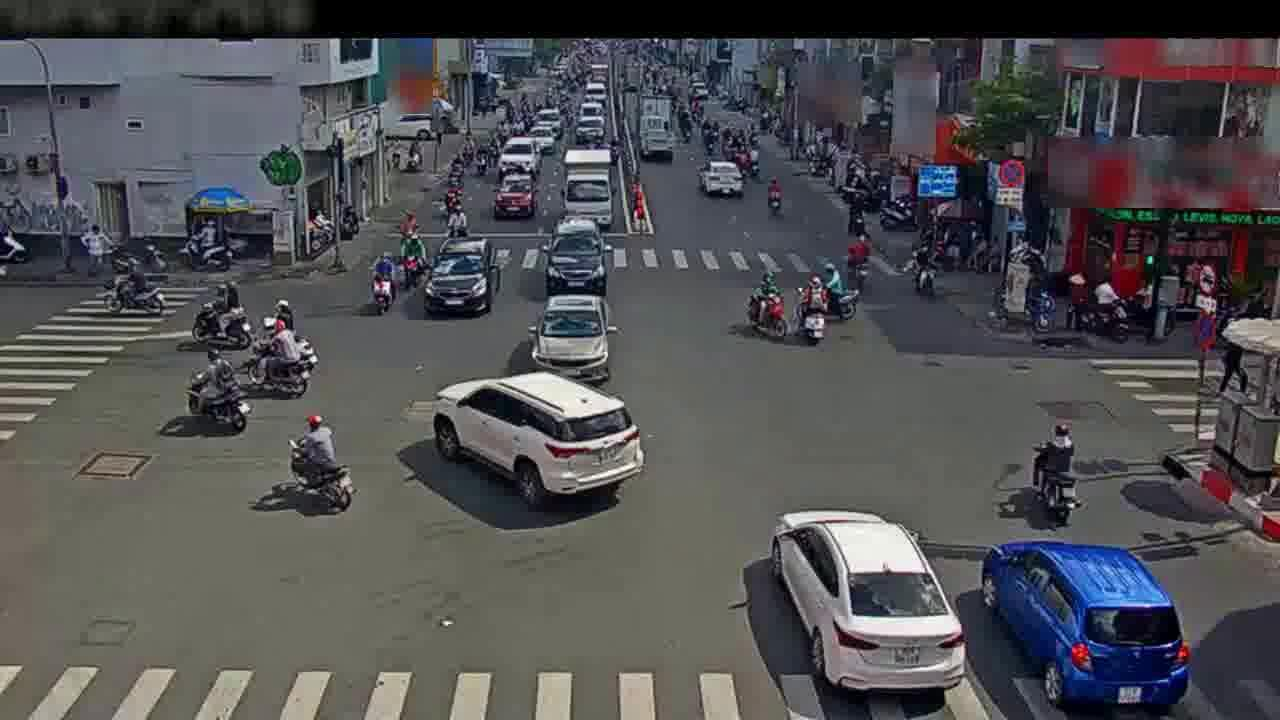8: (562, 154, 611, 218), (632, 105, 675, 167)
container: (782, 513, 949, 698), (993, 540, 1176, 707), (419, 365, 628, 506), (536, 280, 610, 384), (429, 240, 496, 316), (546, 224, 604, 298), (492, 164, 537, 226), (635, 110, 674, 171), (700, 161, 745, 204), (526, 115, 560, 151)
motorbike: (278, 417, 353, 512), (178, 354, 251, 432), (249, 322, 318, 401), (1029, 411, 1076, 523), (193, 289, 254, 354), (104, 262, 169, 321), (745, 270, 786, 341), (816, 257, 854, 329), (906, 240, 940, 304), (797, 275, 825, 352), (367, 249, 397, 320), (399, 229, 425, 297), (850, 221, 873, 288), (444, 186, 465, 243), (843, 188, 865, 242), (399, 210, 419, 252), (767, 175, 782, 215)
